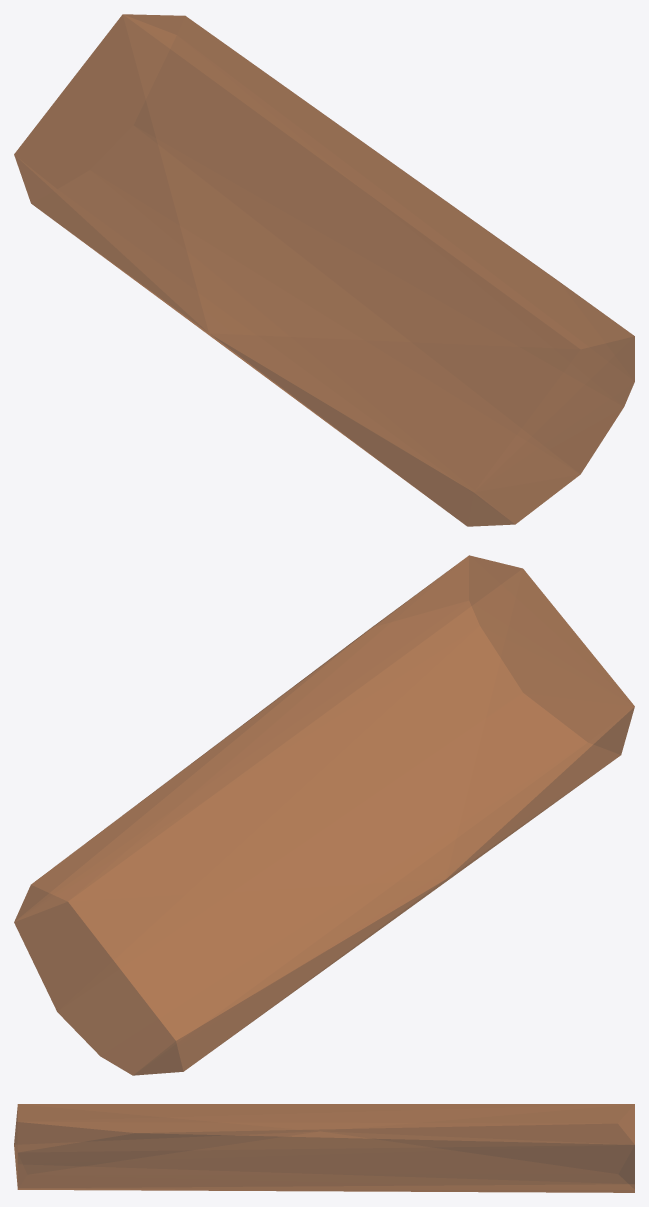
The picture shows the model from 3 angles, top to bottom: view 1: azimuth 30°, elevation 25°; view 2: azimuth 150°, elevation 25°; view 3: azimuth 270°, elevation 25°; orthographic projection. The views are drawn at different scales.
Parts seen in each view (by area): view 1: Shape_IndexedFaceSet.005_Shape_IndexedFaceSet.4946; view 2: Shape_IndexedFaceSet.005_Shape_IndexedFaceSet.4946; view 3: Shape_IndexedFaceSet.005_Shape_IndexedFaceSet.4946.
Boxes of the visible parts, x1,y1,x2,y2 form: Shape_IndexedFaceSet.005_Shape_IndexedFaceSet.4946: (14, 14, 634, 526); Shape_IndexedFaceSet.005_Shape_IndexedFaceSet.4946: (14, 555, 634, 1075); Shape_IndexedFaceSet.005_Shape_IndexedFaceSet.4946: (14, 1104, 634, 1192).
Bounding box in the file's own units: 0.0824 × 0.0591 × 0.31.
